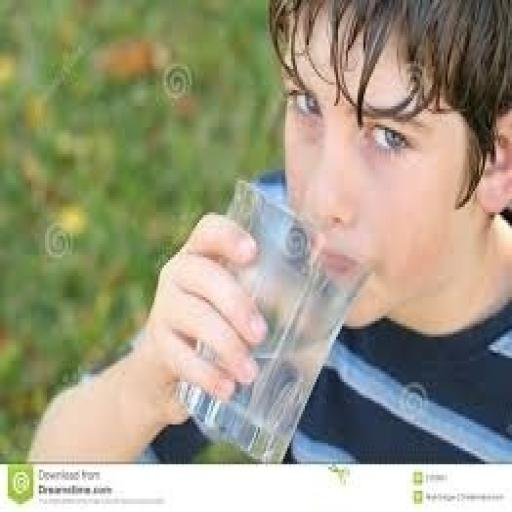drinking: (174, 175, 373, 462)
